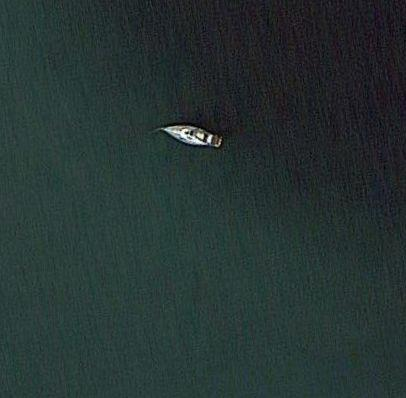Ships: (154, 108, 223, 161)
